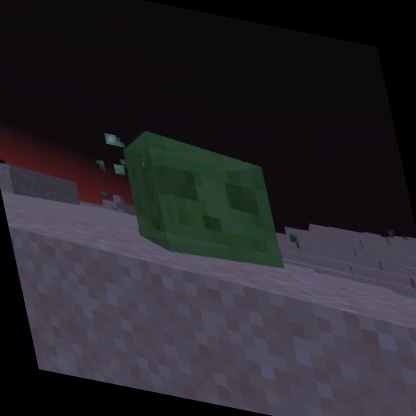slime: (109, 119, 293, 280)
